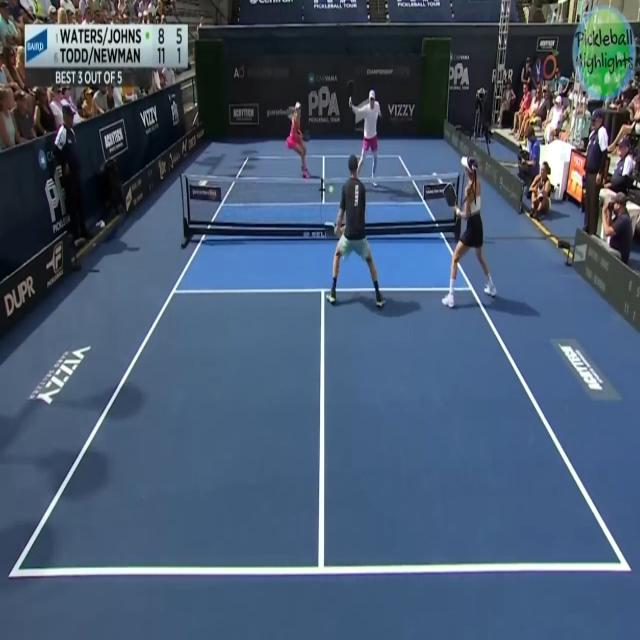Pickleball: (328, 182, 335, 196)
